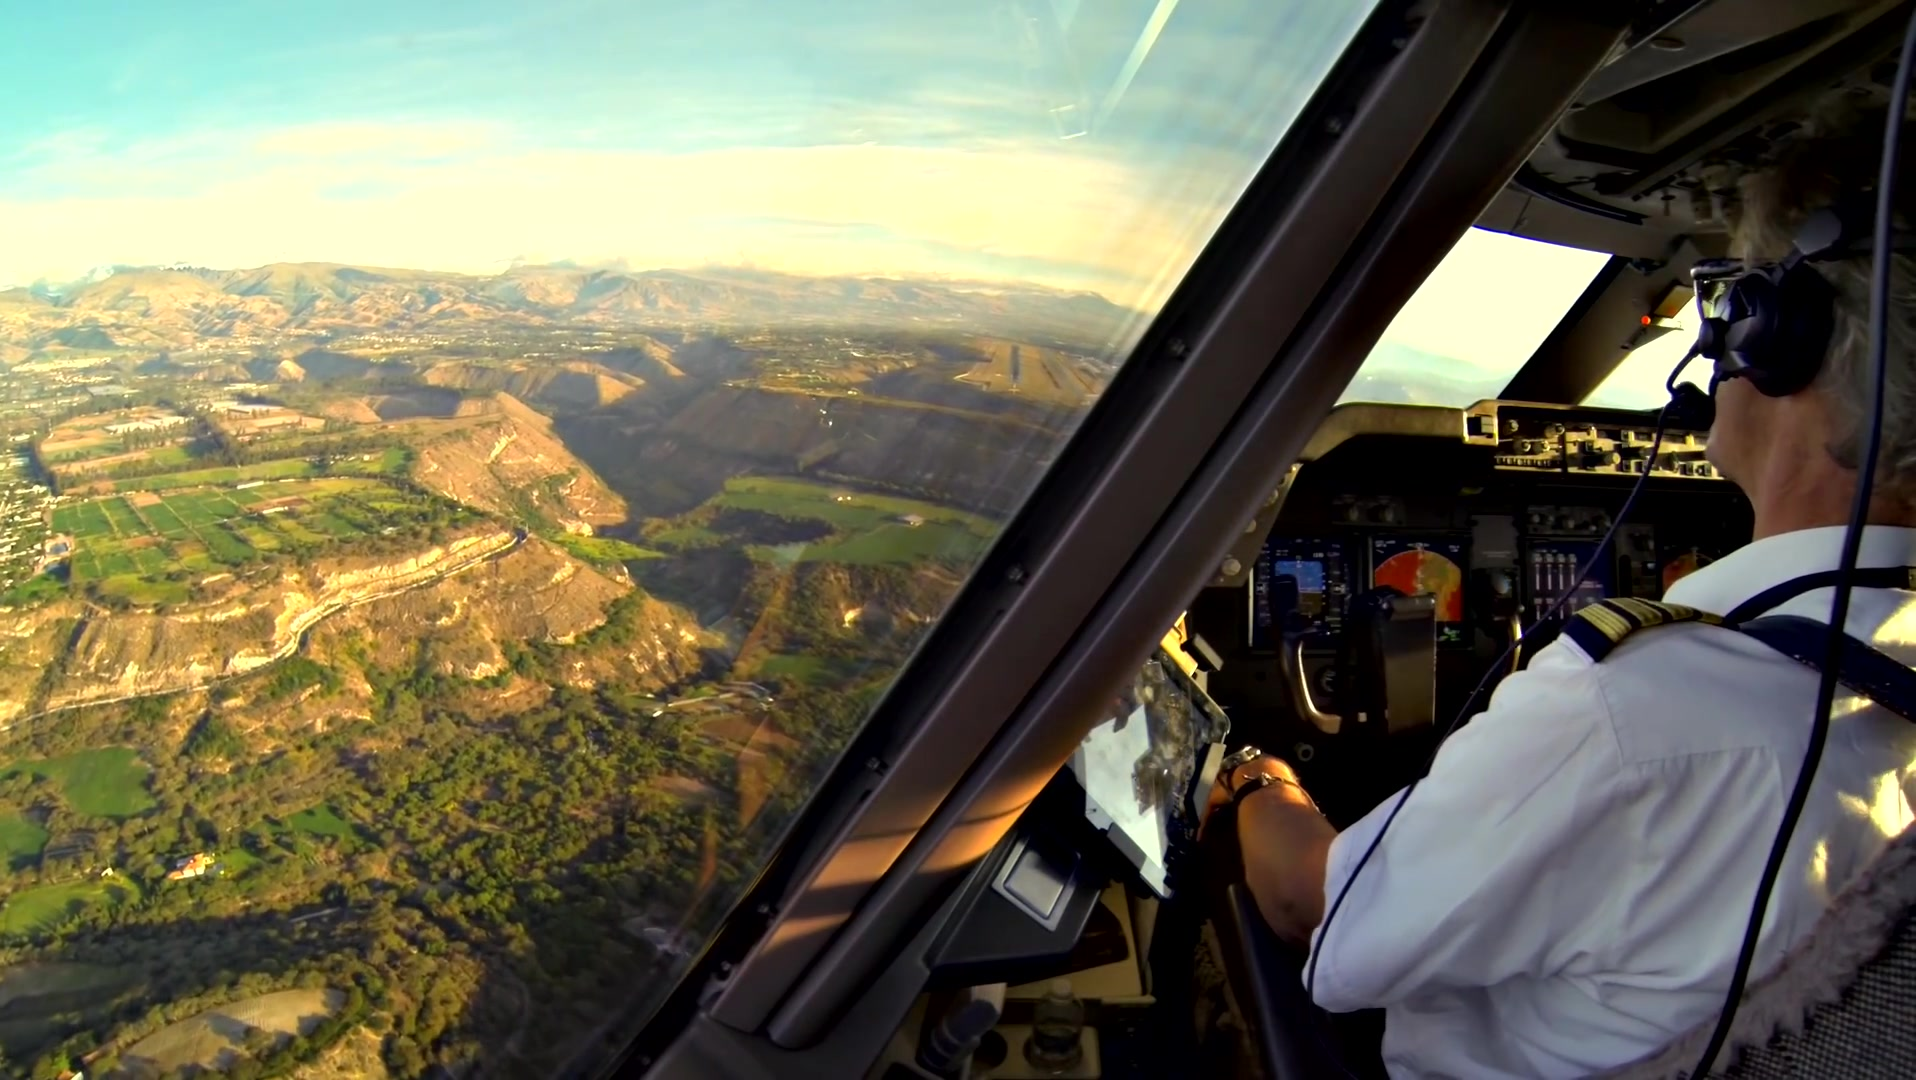runway: (1005, 345, 1025, 388)
